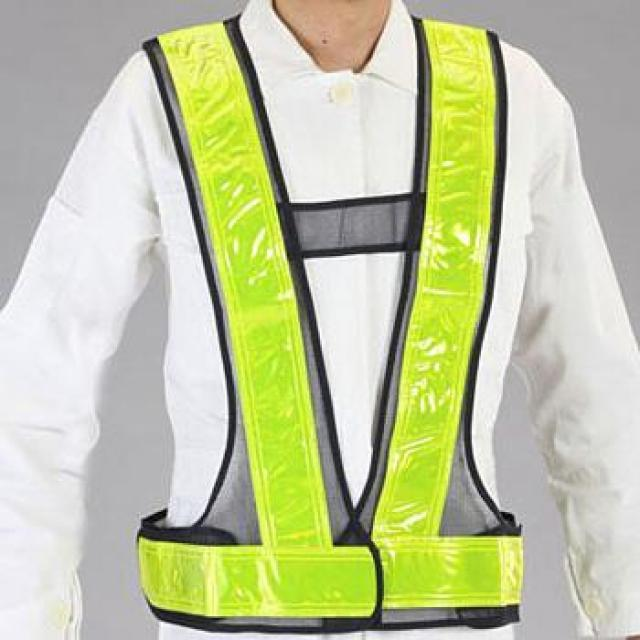reflective_jacket: (78, 0, 596, 639)
